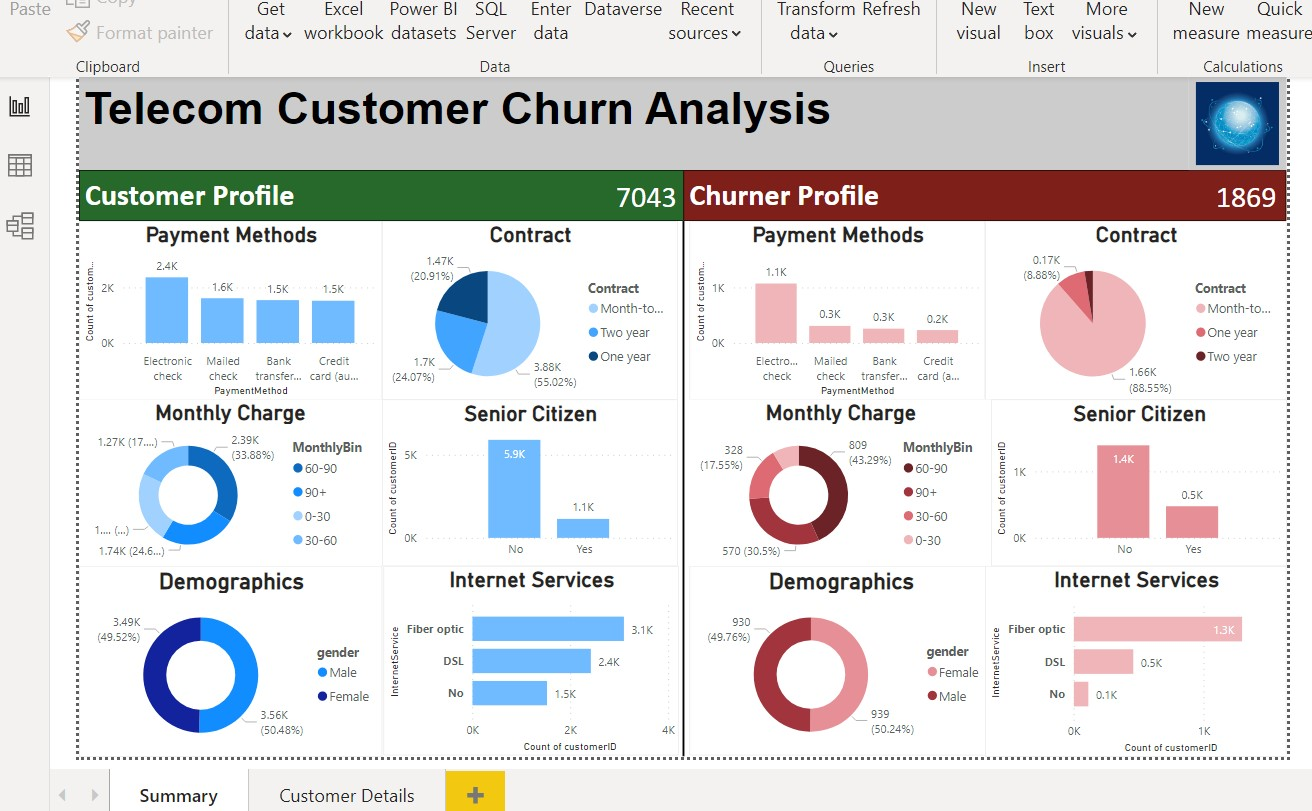

The dashboard page shown, as its layout file describes it:
{"tool":"powerbi","page":{"name":"Summary","canvas":[1280,720],"ordinal":0},"visuals":[{"type":"textbox","box":[0,0,1176.2,98.5],"z":1},{"type":"textbox","box":[0,98.5,640.5,54],"z":2},{"type":"textbox","box":[640.5,98.5,638.9,54],"z":4},{"type":"shape","box":[634.2,152.6,12.7,567.4],"z":5},{"type":"card","fields":{"Values":["CountNonNull(Telco-Customer-Churn.customerID)"]},"box":[1193.6,98.5,85.8,54],"z":6},{"type":"card","fields":{"Values":["CountNonNull(Telco-Customer-Churn.customerID)"]},"box":[561.1,98.5,79.5,54],"z":7},{"type":"donutChart","title":"Demographics","fields":{"Y":["CountNonNull(Telco-Customer-Churn.gender)"],"Category":["Telco-Customer-Churn.gender"]},"box":[0,518.1,321.1,201.9],"z":8},{"type":"barChart","title":"Internet Services","fields":{"Category":["Telco-Customer-Churn.InternetService"],"Y":["CountNonNull(Telco-Customer-Churn.customerID)"]},"box":[321.9,518.8,312.4,200.7],"z":9},{"type":"columnChart","title":"Payment Methods","fields":{"Category":["Telco-Customer-Churn.PaymentMethod"],"Y":["CountNonNull(Telco-Customer-Churn.customerID)"]},"box":[0,152.6,321.1,189.1],"z":10},{"type":"pieChart","title":"Contract","fields":{"Y":["CountNonNull(Telco-Customer-Churn.Contract)"],"Category":["Telco-Customer-Churn.Contract"]},"box":[321.1,152.6,313.1,189.1],"z":11},{"type":"columnChart","title":"Payment Methods","fields":{"Category":["Telco-Customer-Churn.PaymentMethod"],"Y":["CountNonNull(Telco-Customer-Churn.customerID)"]},"box":[646.9,152.6,313.1,189.1],"z":12},{"type":"pieChart","title":"Contract","fields":{"Y":["CountNonNull(Telco-Customer-Churn.Contract)"],"Category":["Telco-Customer-Churn.Contract"]},"box":[960,152.6,319.5,189.1],"z":13},{"type":"donutChart","title":"Demographics","fields":{"Y":["CountNonNull(Telco-Customer-Churn.gender)"],"Category":["Telco-Customer-Churn.gender"]},"box":[647.6,518.8,320,200.7],"z":14},{"type":"barChart","title":"Internet Services","fields":{"Category":["Telco-Customer-Churn.InternetService"],"Y":["CountNonNull(Telco-Customer-Churn.customerID)"]},"box":[960,518.1,319.5,201.9],"z":15},{"type":"donutChart","title":"Monthly Charge","fields":{"Category":["Telco-Customer-Churn.MonthlyBin"],"Y":["CountNonNull(Telco-Customer-Churn.customerID)"]},"box":[0,341.7,321.1,176.4],"z":16},{"type":"donutChart","title":"Monthly Charge","fields":{"Category":["Telco-Customer-Churn.MonthlyBin"],"Y":["CountNonNull(Telco-Customer-Churn.customerID)"]},"box":[646.9,341.7,321.1,176.4],"z":17},{"type":"columnChart","title":"Senior Citizen","fields":{"Category":["Telco-Customer-Churn.SeniorCitizen"],"Y":["CountNonNull(Telco-Customer-Churn.customerID)"]},"box":[321.1,341.7,313.1,176.4],"z":18},{"type":"columnChart","title":"Senior Citizen","fields":{"Category":["Telco-Customer-Churn.SeniorCitizen"],"Y":["CountNonNull(Telco-Customer-Churn.customerID)"]},"box":[966.4,341.7,313.1,176.4],"z":19},{"type":"image","box":[1176.2,0,103.3,98.5],"z":21}]}

Visuals, with their boxes on the page's 1280x720 design canvas (x1, y1, x2, y2). These are canvas units, not pixel positions in the 1312x811 screenshot, which may show the page scaled, cropped or inside an application window:
textbox: detection(0, 0, 1176, 98)
textbox: detection(0, 98, 640, 152)
textbox: detection(640, 98, 1279, 152)
shape: detection(634, 153, 647, 720)
card - CountNonNull(Telco-Customer-Churn.customerID): detection(1194, 98, 1279, 152)
card - CountNonNull(Telco-Customer-Churn.customerID): detection(561, 98, 641, 152)
"Demographics" donutChart: detection(0, 518, 321, 720)
"Internet Services" barChart: detection(322, 519, 634, 720)
"Payment Methods" columnChart: detection(0, 153, 321, 342)
"Contract" pieChart: detection(321, 153, 634, 342)
"Payment Methods" columnChart: detection(647, 153, 960, 342)
"Contract" pieChart: detection(960, 153, 1280, 342)
"Demographics" donutChart: detection(648, 519, 968, 720)
"Internet Services" barChart: detection(960, 518, 1280, 720)
"Monthly Charge" donutChart: detection(0, 342, 321, 518)
"Monthly Charge" donutChart: detection(647, 342, 968, 518)
"Senior Citizen" columnChart: detection(321, 342, 634, 518)
"Senior Citizen" columnChart: detection(966, 342, 1280, 518)
image: detection(1176, 0, 1280, 98)
